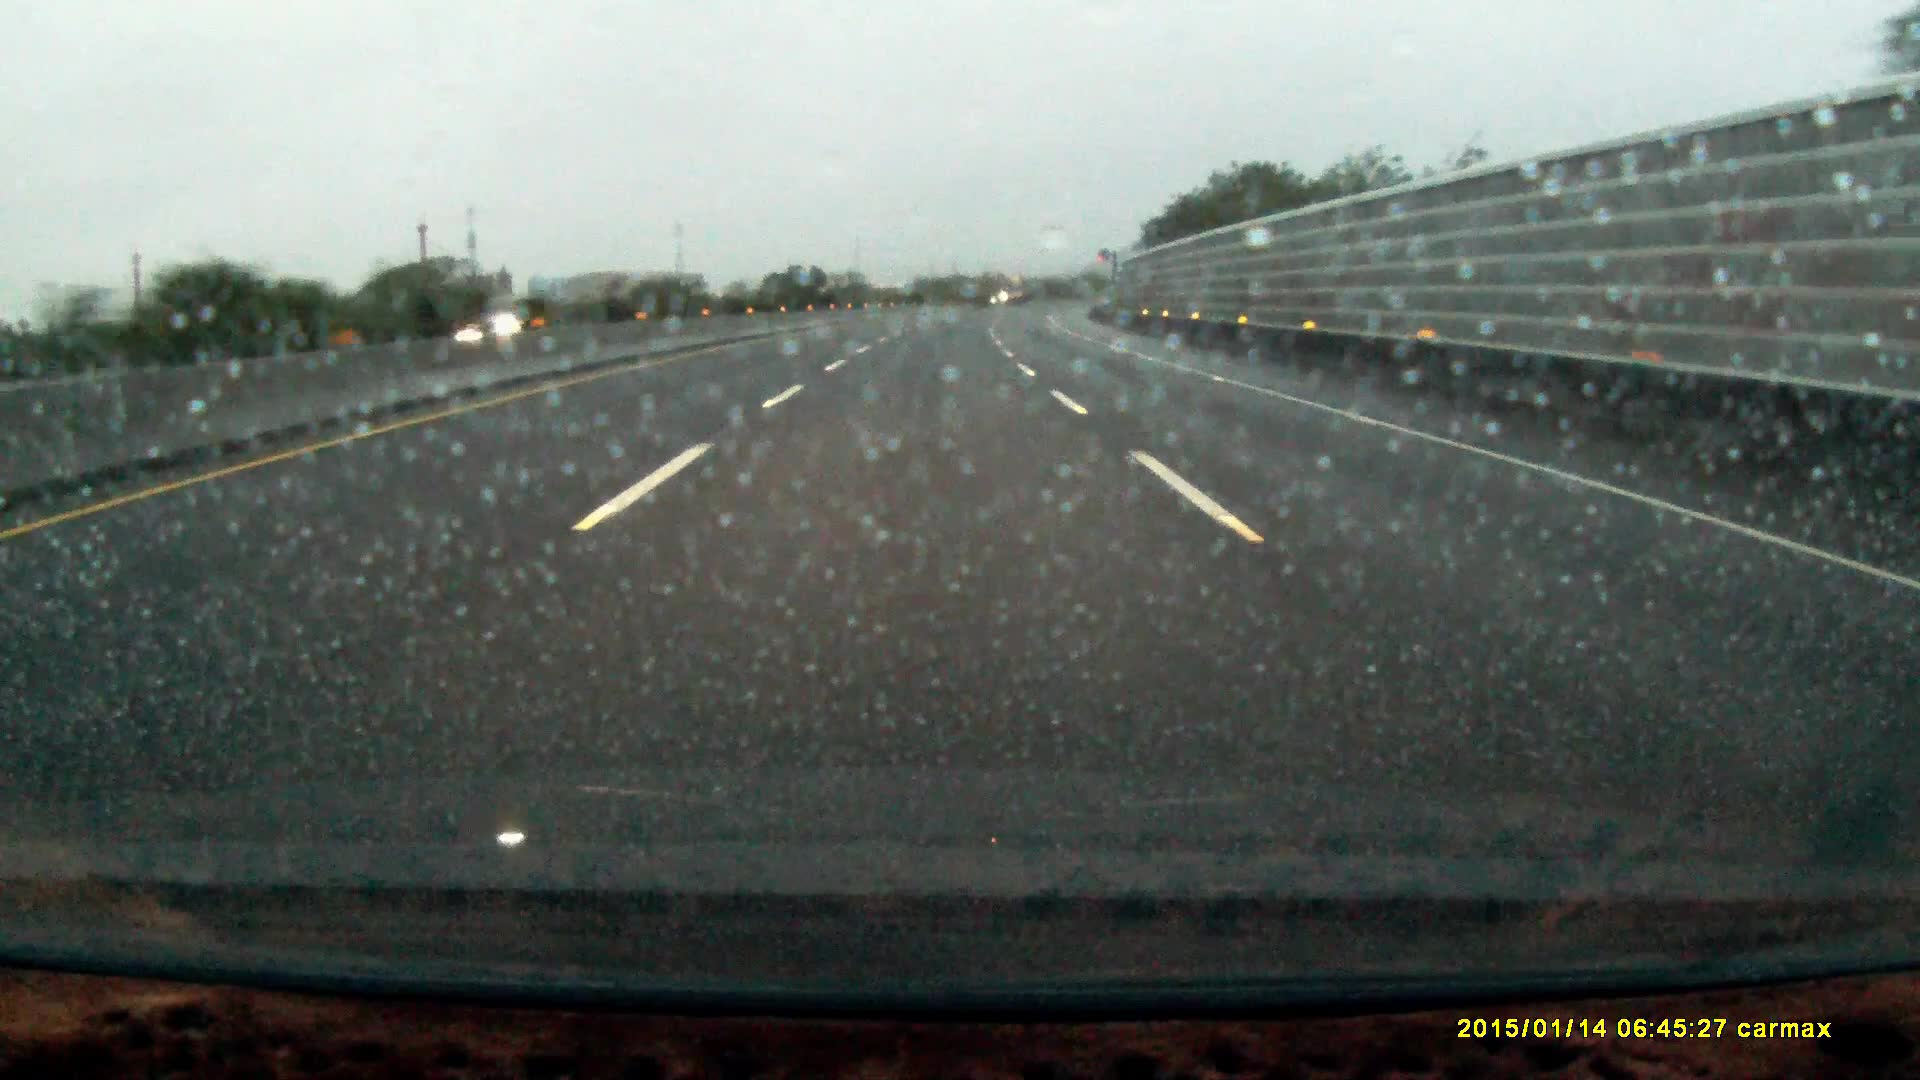vehicle: (433, 309, 516, 339)
